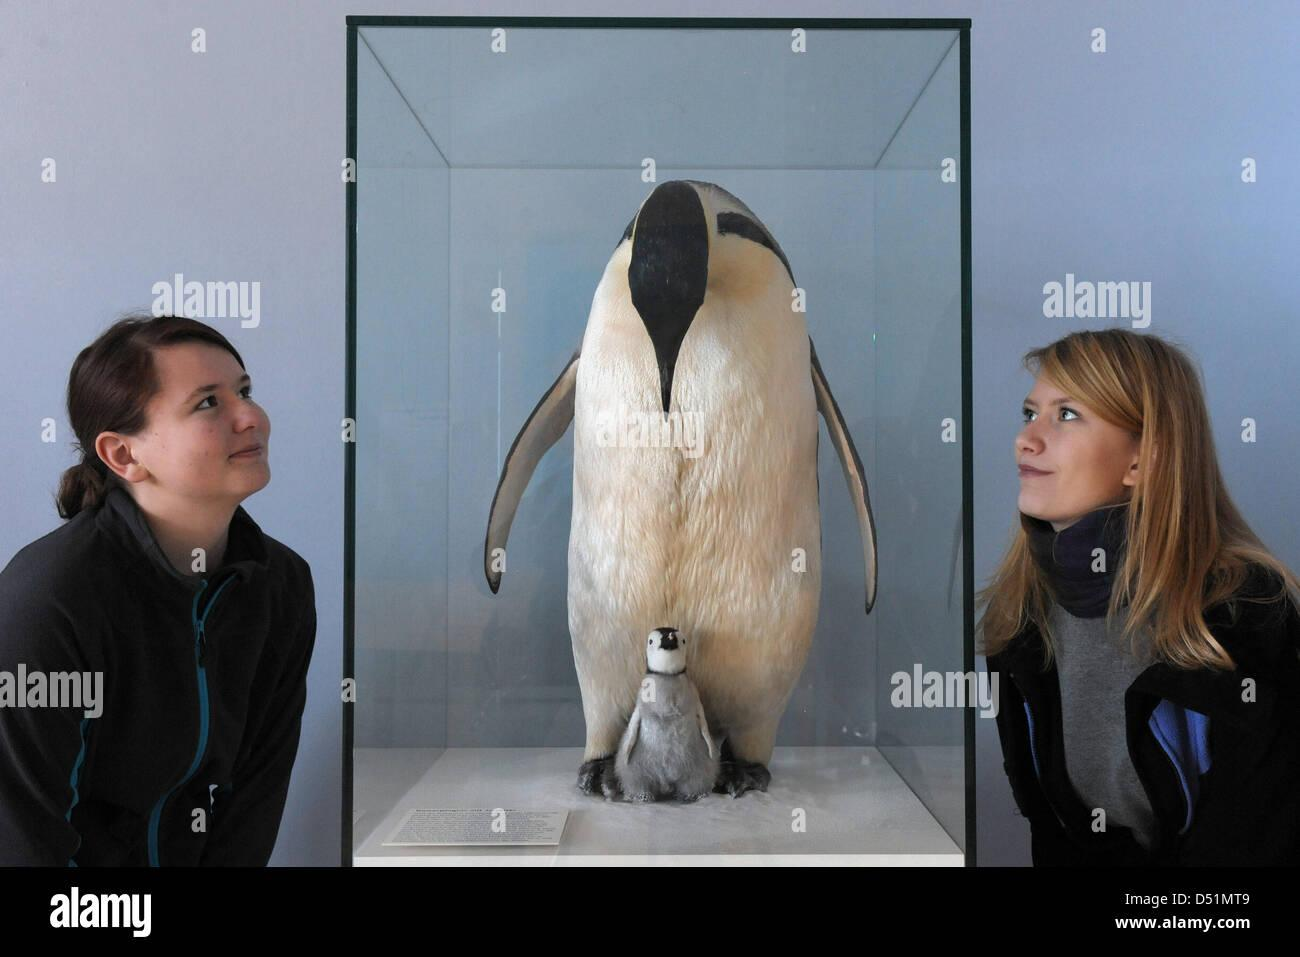emporer: (457, 156, 928, 824)
